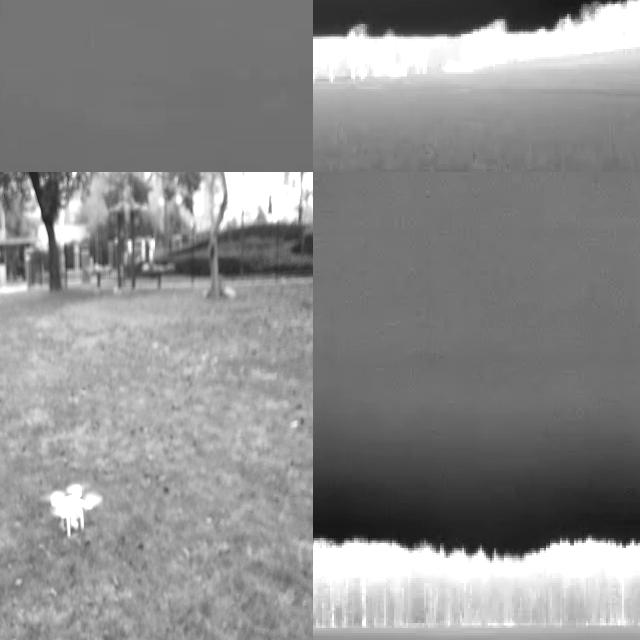drone: (46, 480, 95, 535)
